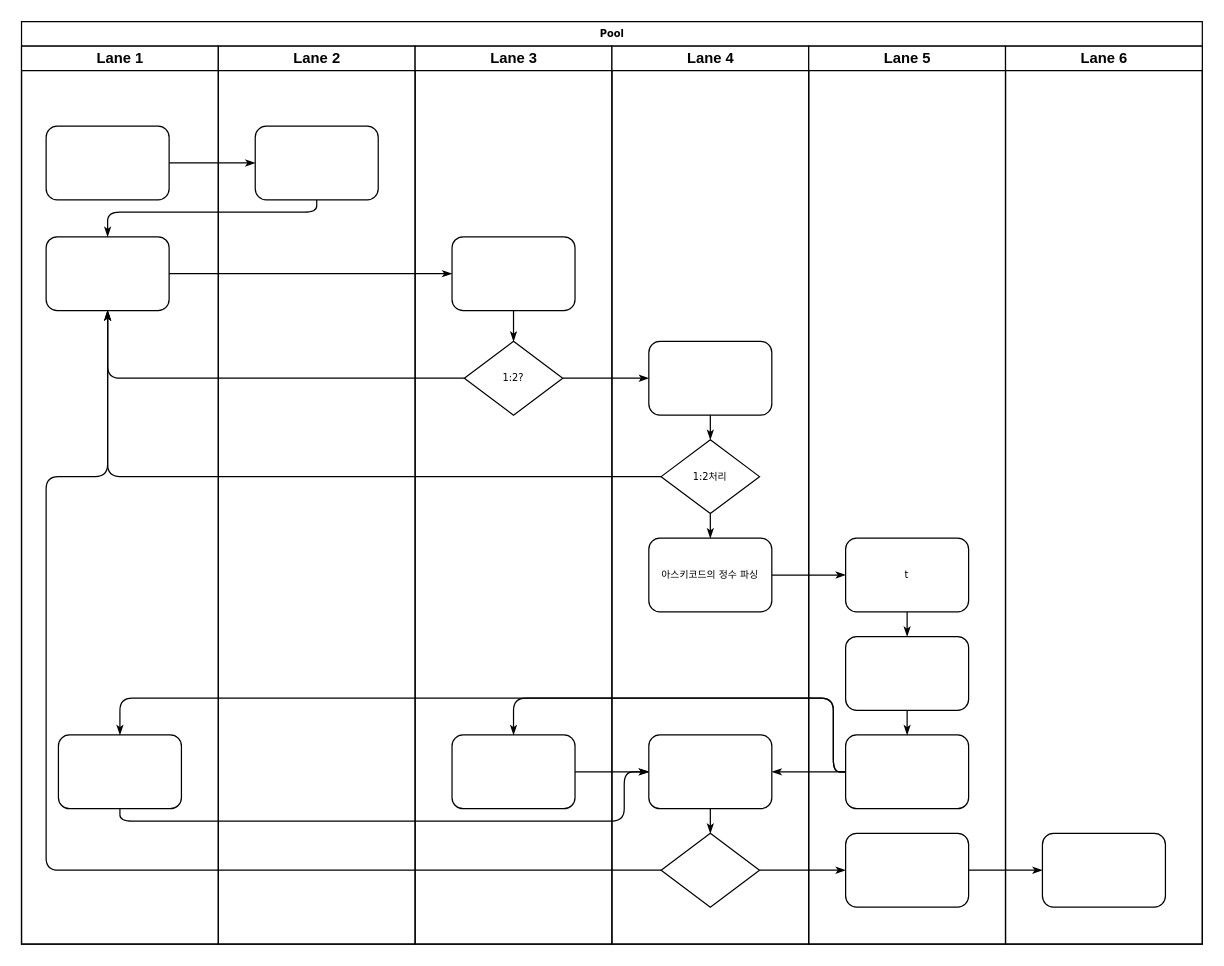
Image size: 1224x966. Some labels were removed from this diagram. The shapes that lost their labels are listed below. From the top down, each one's centre as x and y in pixels, then its label:
At point 107,162: "시작".
At point 316,162: "시리얼 baud rate설정".
At point 107,273: "1:LED 또는 2:부저통신창에 입력".
At point 513,273: "선택값 통신창 확인".
At point 710,377: "동작시간 통신창에 입력".
